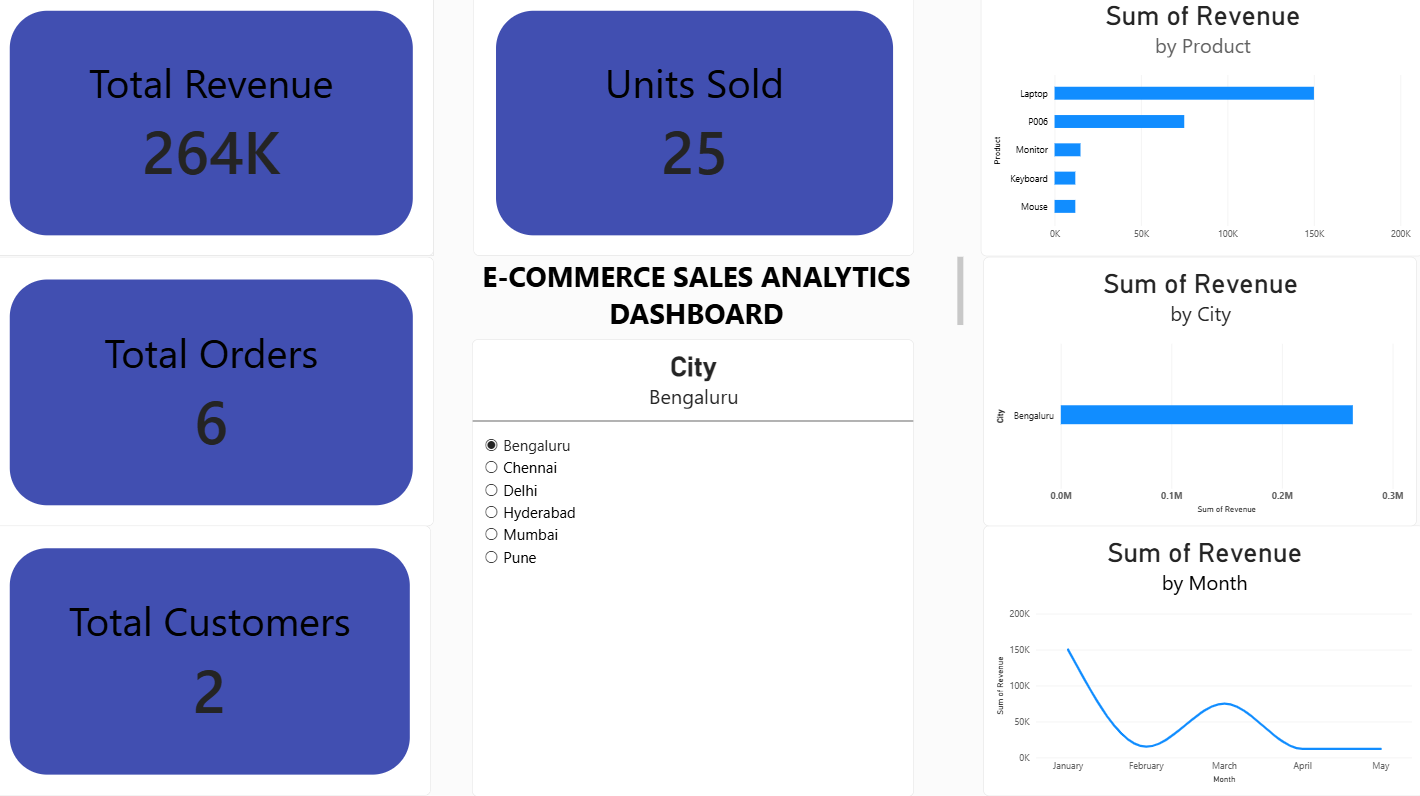

The dashboard page shown, as its layout file describes it:
{"tool":"powerbi","page":{"name":"Page 1","canvas":[1920,1080],"ordinal":0},"visuals":[{"type":"cardVisual","fields":{"Data":["cleaned_sales.Total Revenue"]},"box":[0,0,597.2,358.3],"z":0},{"type":"cardVisual","fields":{"Data":["cleaned_sales.Total Orders"]},"box":[0,358.3,597.2,360.1],"z":1000},{"type":"cardVisual","fields":{"Data":["cleaned_sales.Total Customers"]},"box":[0,718.4,593.6,361.9],"z":2000},{"type":"cardVisual","fields":{"Data":["cleaned_sales.Units Sold"]},"box":[649.7,0,589.9,358.3],"z":3000},{"type":"lineChart","fields":{"Category":["cleaned_sales.Month.Variation.Date Hierarchy.Month"],"Y":["Sum(cleaned_sales.Revenue)"]},"box":[1330.1,718.4,589.9,361.9],"z":4000},{"type":"barChart","fields":{"Category":["cleaned_sales.City"],"Y":["Sum(cleaned_sales.Revenue)"]},"box":[1330.1,358.3,579.1,360.1],"z":5000},{"type":"barChart","fields":{"Category":["cleaned_sales.Product"],"Y":["Sum(cleaned_sales.Revenue)"]},"box":[1328.3,0,591.8,358.3],"z":6000},{"type":"listSlicer","fields":{"Values":["cleaned_sales.City"]},"box":[649.7,439.7,590.7,611.3],"z":7000}]}

Visuals, with their boxes in screenshot pixels (x1, y1, x2, y2), scaled from the page's 1920x1080 canvas onto the 1420x796 screenshot:
cardVisual - cleaned_sales.Total Revenue: bbox(0, 0, 442, 264)
cardVisual - cleaned_sales.Total Orders: bbox(0, 264, 442, 529)
cardVisual - cleaned_sales.Total Customers: bbox(0, 529, 439, 795)
cardVisual - cleaned_sales.Units Sold: bbox(481, 0, 917, 264)
lineChart - cleaned_sales.Month.Variation.Date Hierarchy.Month x Sum(cleaned_sales.Revenue): bbox(984, 529, 1419, 795)
barChart - cleaned_sales.City x Sum(cleaned_sales.Revenue): bbox(984, 264, 1412, 529)
barChart - cleaned_sales.Product x Sum(cleaned_sales.Revenue): bbox(982, 0, 1419, 264)
listSlicer - cleaned_sales.City: bbox(481, 324, 917, 775)
